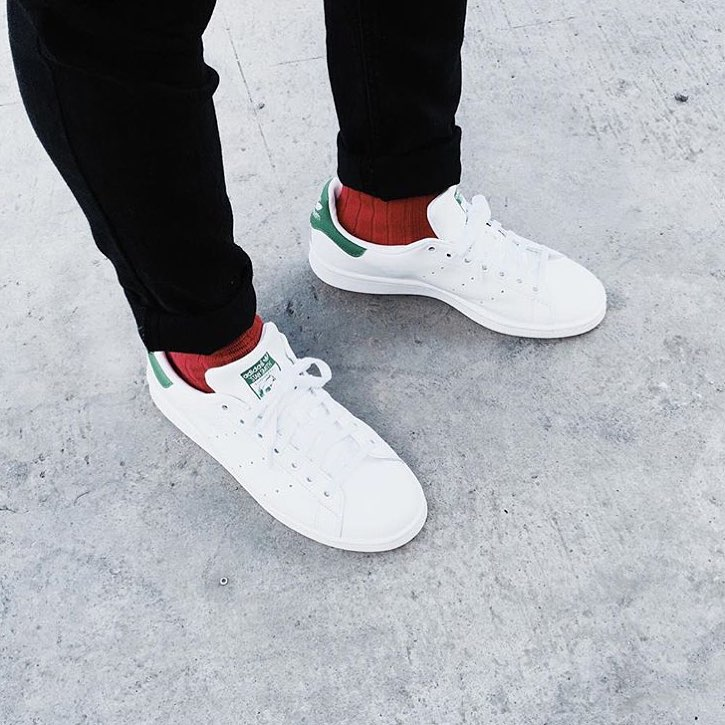sneaker: (101, 291, 450, 578), (283, 138, 628, 361)
